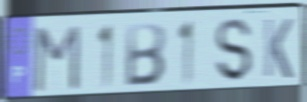1: (96, 20, 118, 93), (177, 17, 198, 89)
B: (123, 21, 168, 89)
K: (262, 16, 295, 81)
M: (31, 23, 82, 95)
S: (214, 17, 254, 85)
